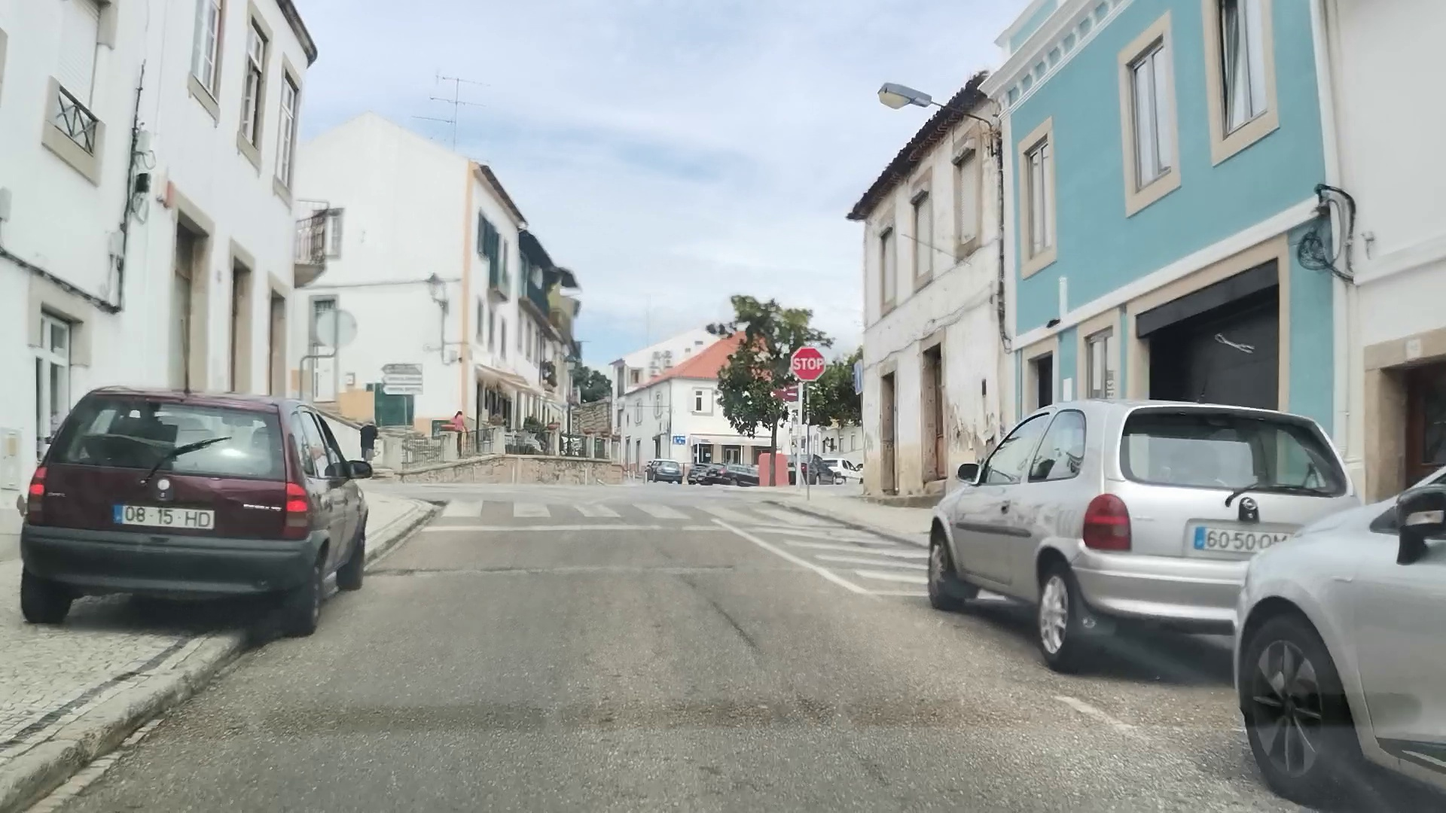Stairs: (446, 498, 827, 521)
